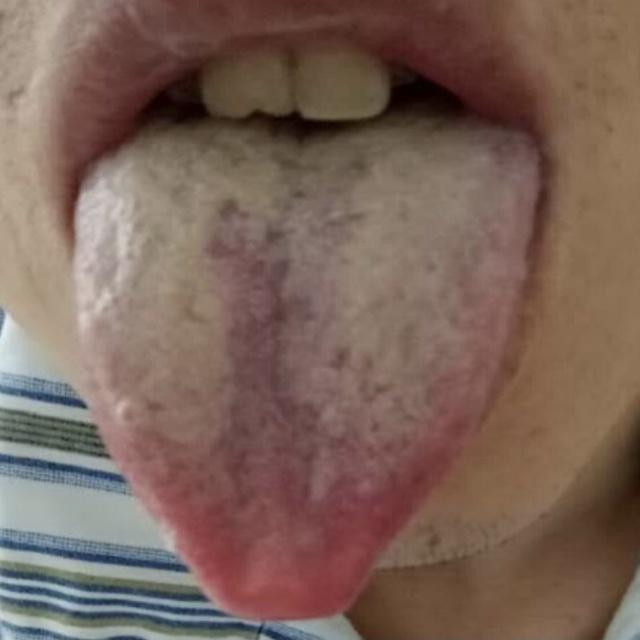baitaishe: (72, 120, 540, 622)
